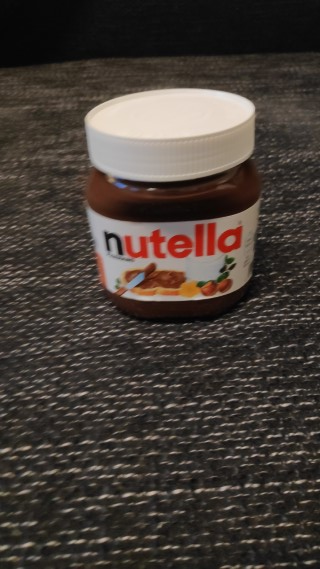nutella: (82, 86, 264, 327)
